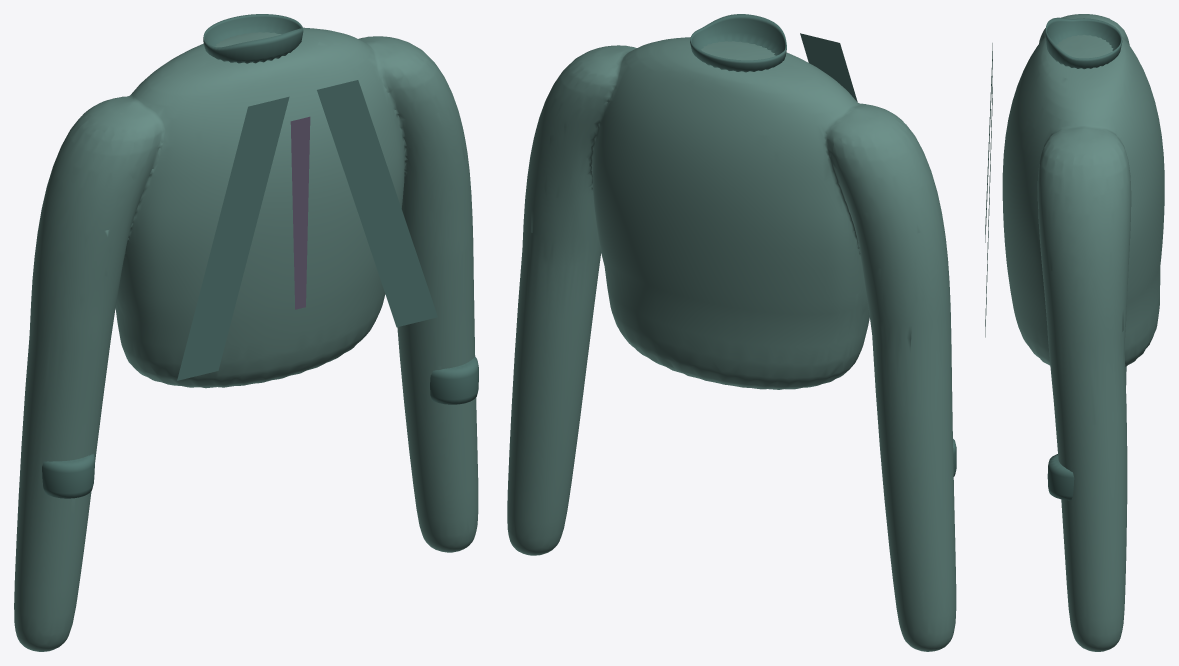
The model's file is child_formal.glb.
3 views of the same model, side by side, from view 1: azimuth 30°, elevation 25°; view 2: azimuth 150°, elevation 25°; view 3: azimuth 270°, elevation 25° (orthographic). The views are drawn at different scales.
Visible parts, largest first — view 1: Outfit_Formal_Coat, Outfit_Formal_Lapel.001, Outfit_Formal_Lapel, Outfit_Formal_Collar, Outfit_Formal_Tie, Outfit_Formal_Cuff, Outfit_Formal_Cuff.001; view 2: Outfit_Formal_Coat, Outfit_Formal_Collar, Outfit_Formal_Lapel.001; view 3: Outfit_Formal_Coat, Outfit_Formal_Collar, Outfit_Formal_Cuff.001, Outfit_Formal_Lapel.
Part boxes in pixels (x1,y1,x2,y2): Outfit_Formal_Coat: (14,27,478,651); Outfit_Formal_Lapel.001: (177,96,289,380); Outfit_Formal_Lapel: (317,80,437,327); Outfit_Formal_Collar: (203,14,303,63); Outfit_Formal_Tie: (290,116,310,309); Outfit_Formal_Cuff: (42,453,94,498); Outfit_Formal_Cuff.001: (430,357,478,404); Outfit_Formal_Coat: (507,37,956,651); Outfit_Formal_Collar: (690,14,786,72); Outfit_Formal_Lapel.001: (800,33,857,101); Outfit_Formal_Coat: (1002,14,1164,651); Outfit_Formal_Collar: (1045,17,1122,69); Outfit_Formal_Cuff.001: (1047,454,1074,500); Outfit_Formal_Lapel: (985,76,992,337).
Bounding box in the file's own units: 0.4254 × 0.5206 × 0.1595.
